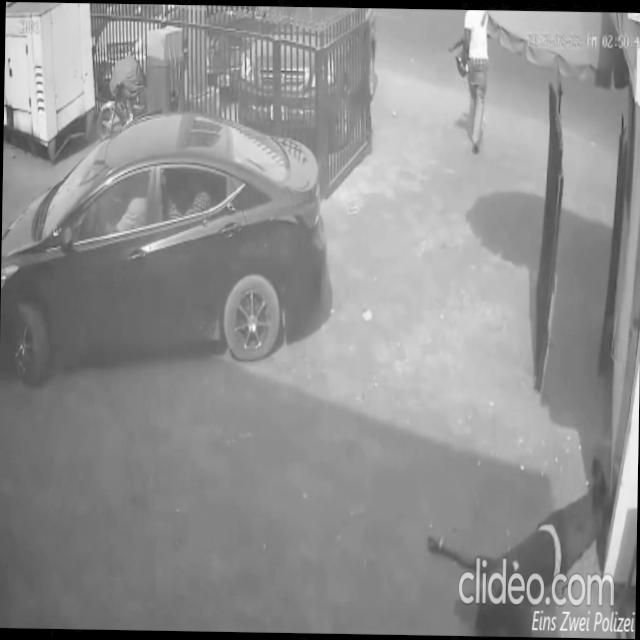gun: (448, 32, 470, 55)
person: (422, 448, 612, 640)
person with a gun: (446, 8, 490, 156)
